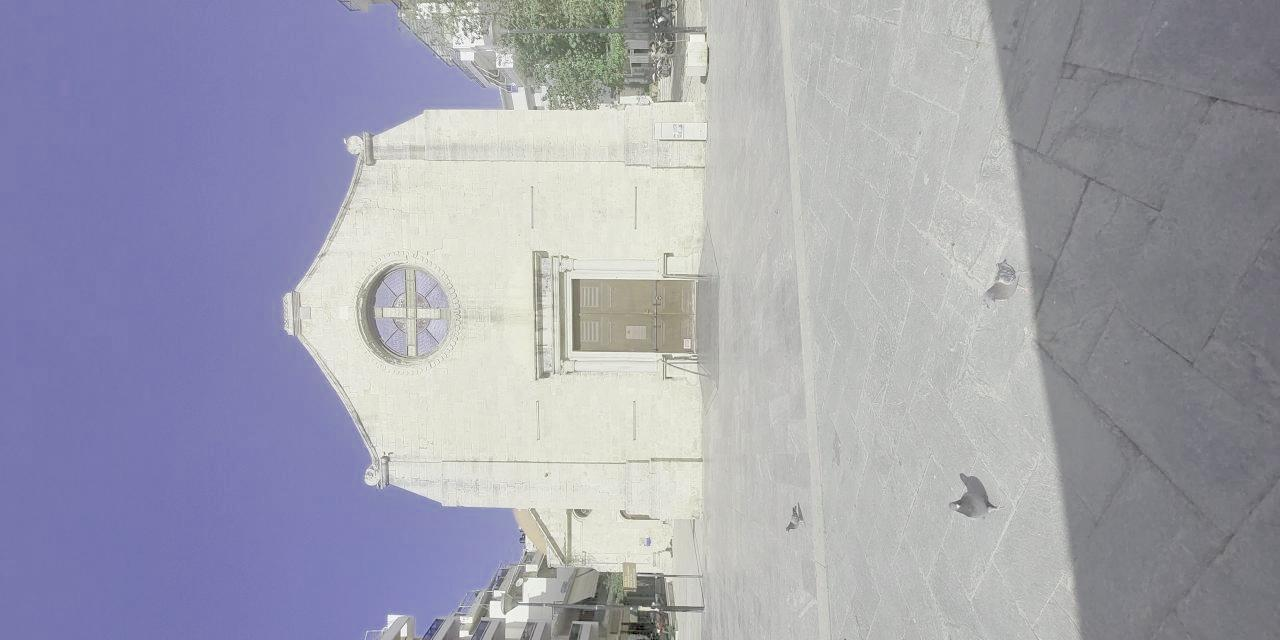Agia Aikaterini: (117, 311, 496, 640)
